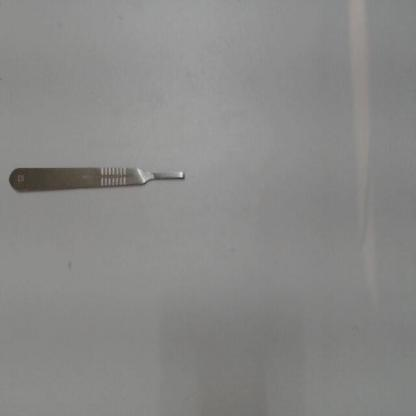No.4 BP Handle: (3, 156, 190, 196)
